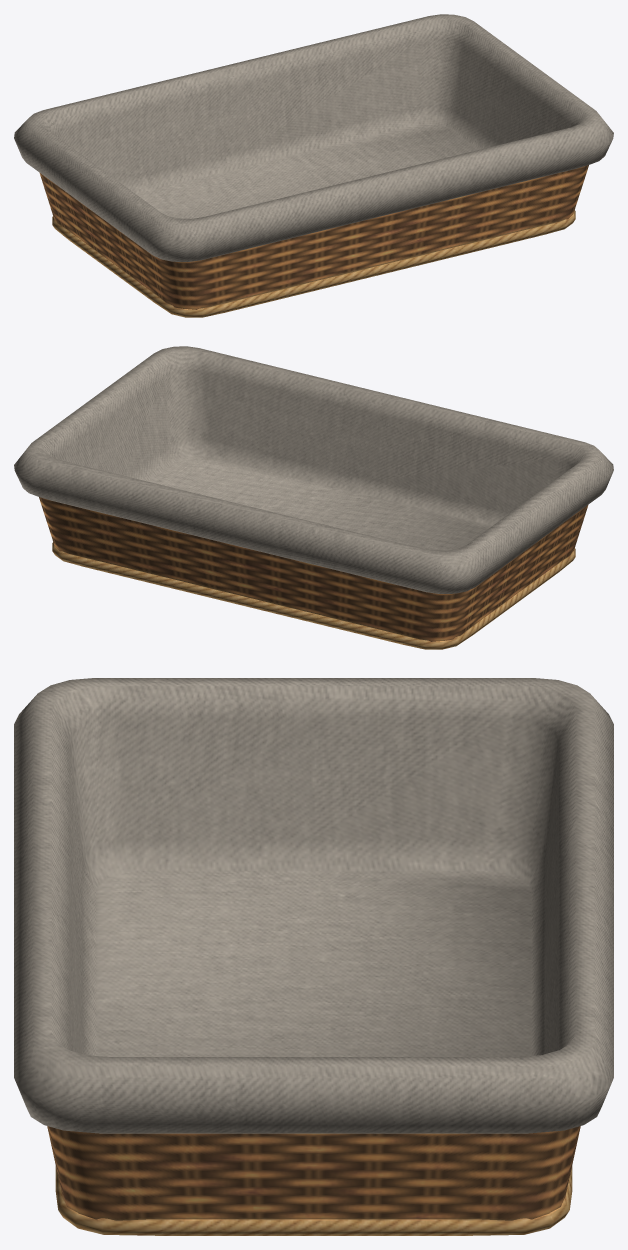
The model's file is Basket_Cloth.fbx.
The picture shows the model from 3 angles, top to bottom: view 1: azimuth 30°, elevation 25°; view 2: azimuth 150°, elevation 25°; view 3: azimuth 270°, elevation 25°; orthographic projection. The views are drawn at different scales.
Visible parts, largest first — view 1: Mesh; view 2: Mesh; view 3: Mesh.
Boxes of the visible parts, x1,y1,x2,y2 form: Mesh: [14, 14, 613, 317]; Mesh: [14, 346, 613, 649]; Mesh: [14, 678, 613, 1235].
Bounding box in the file's own units: 35 × 7.51 × 21.91.
